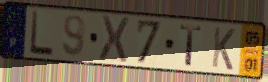7: (135, 17, 164, 66)
9: (61, 14, 87, 59)
K: (210, 25, 237, 73)
L: (28, 9, 55, 58)
T: (178, 24, 204, 68)
X: (97, 14, 131, 64)
